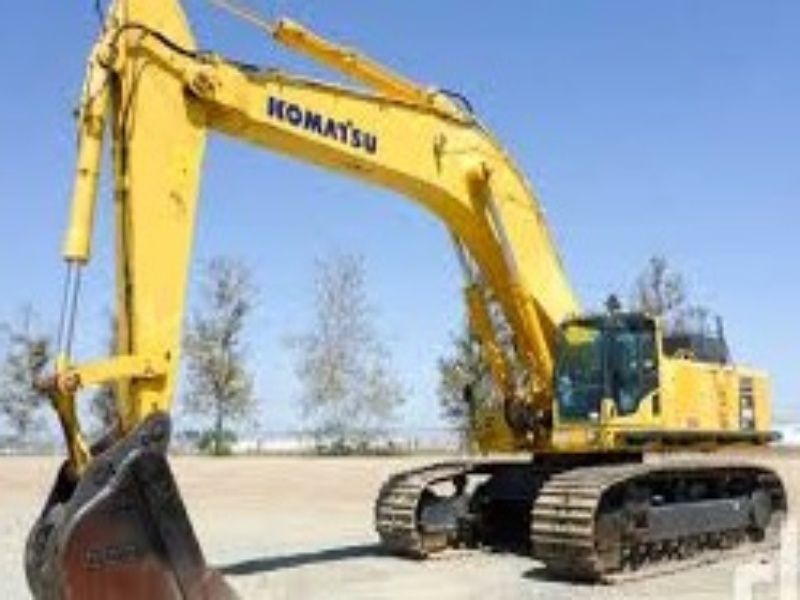wajueji: (349, 194, 800, 595)
